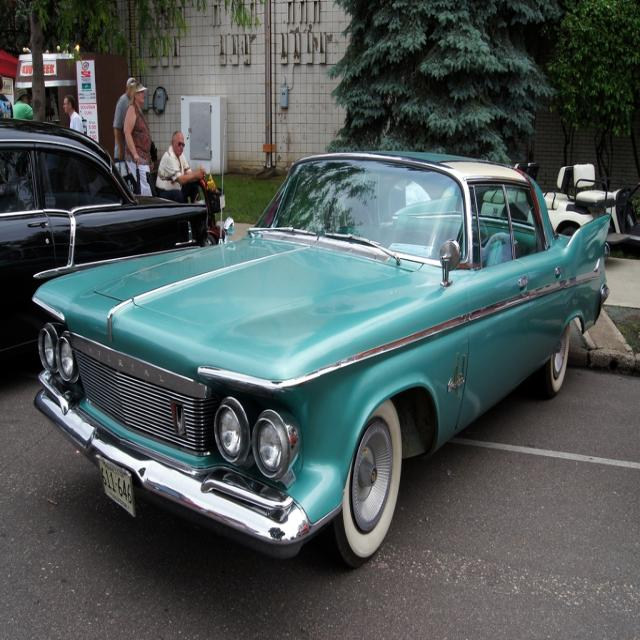car: (28, 145, 613, 562)
